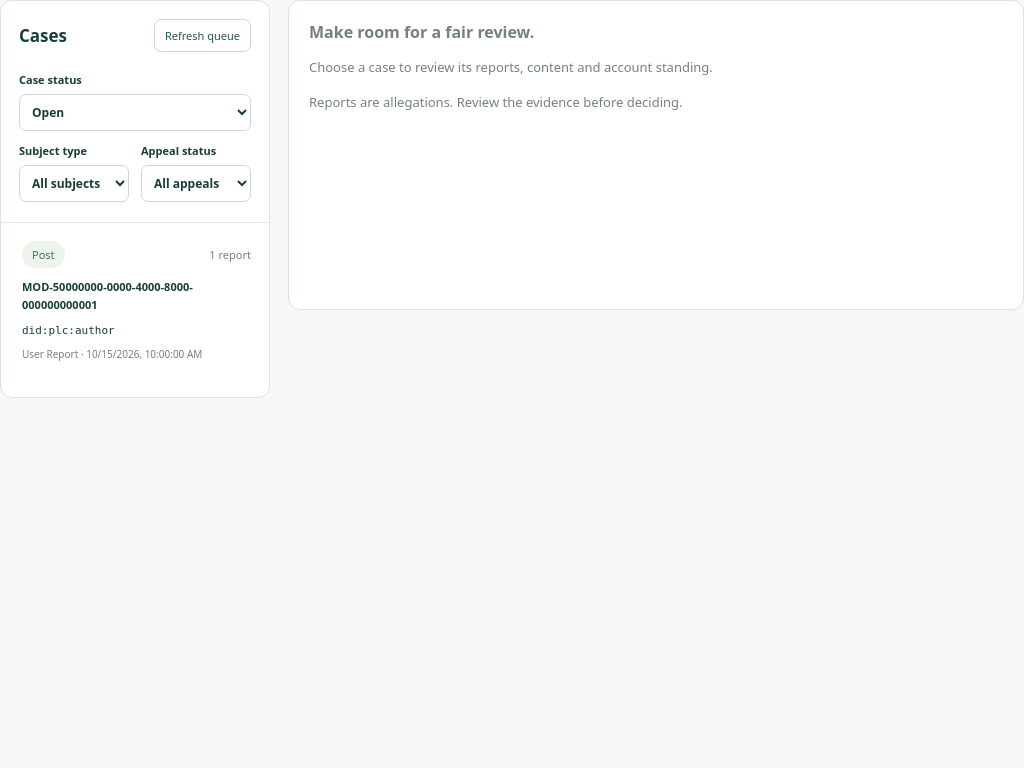
Test: review can be cancelled without issuing a command and restores keyboard focus
Click the link with aria-label "Review MOD-50000000-0000-4000-8000-000000000001" at (43, 254), box x1=1 y1=223 x2=269 y2=379
(page scrolled)
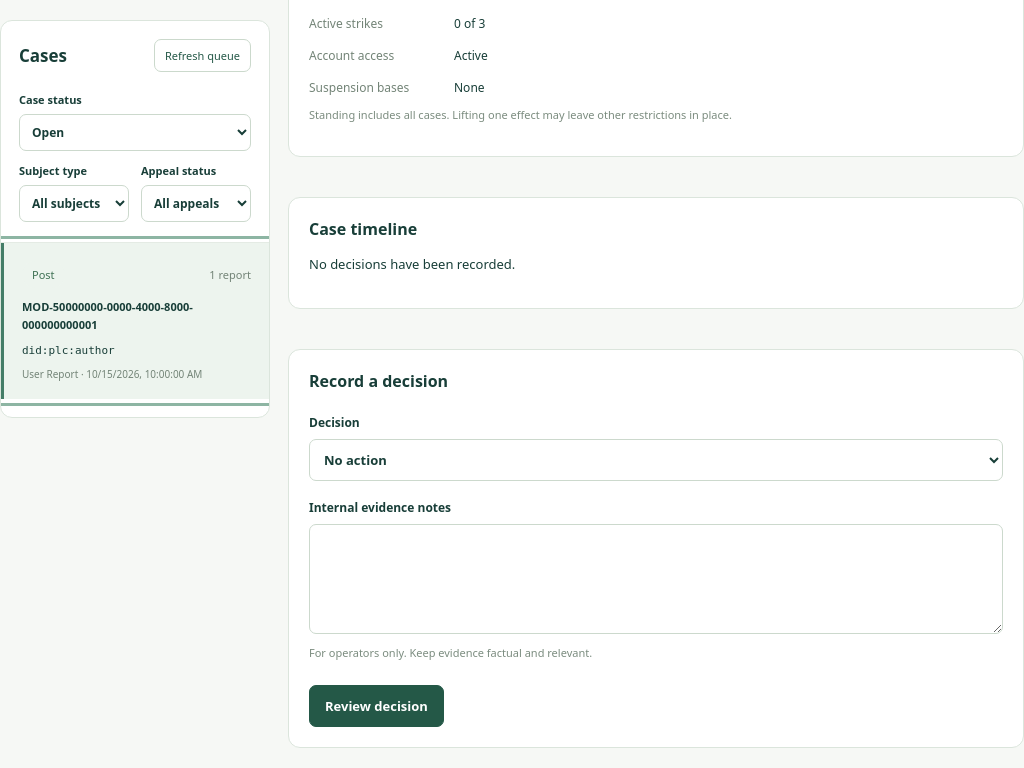
Click the button "Review decision" at (376, 706), box x1=309 y1=685 x2=444 y2=727
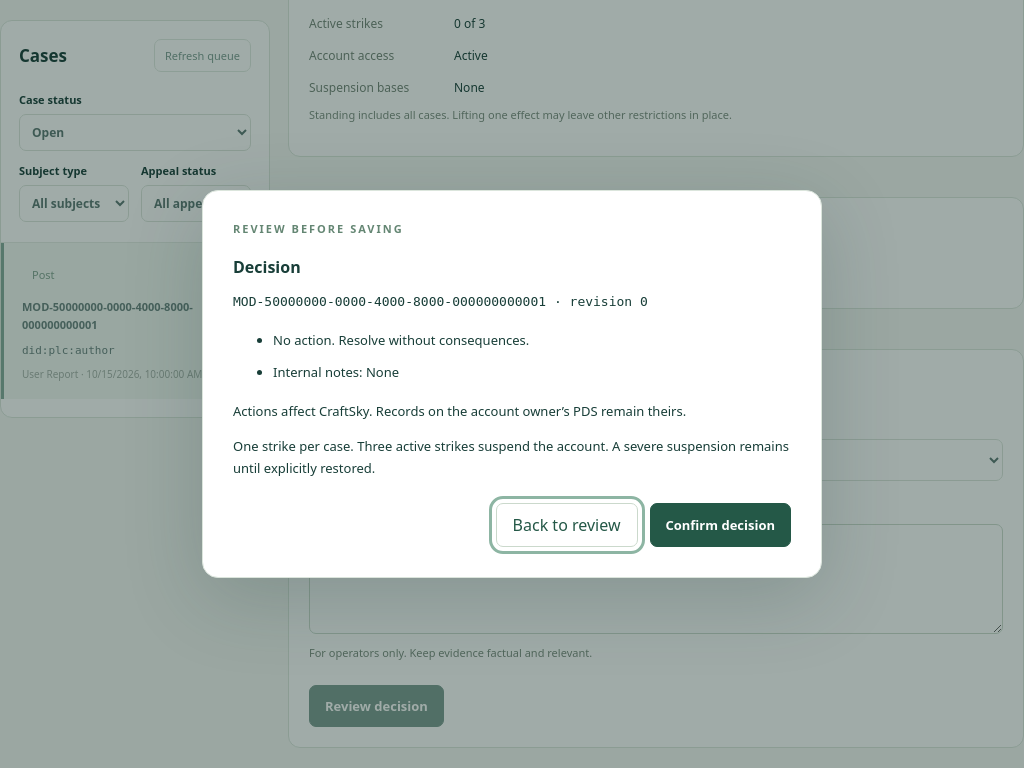
Press Shift+Tab
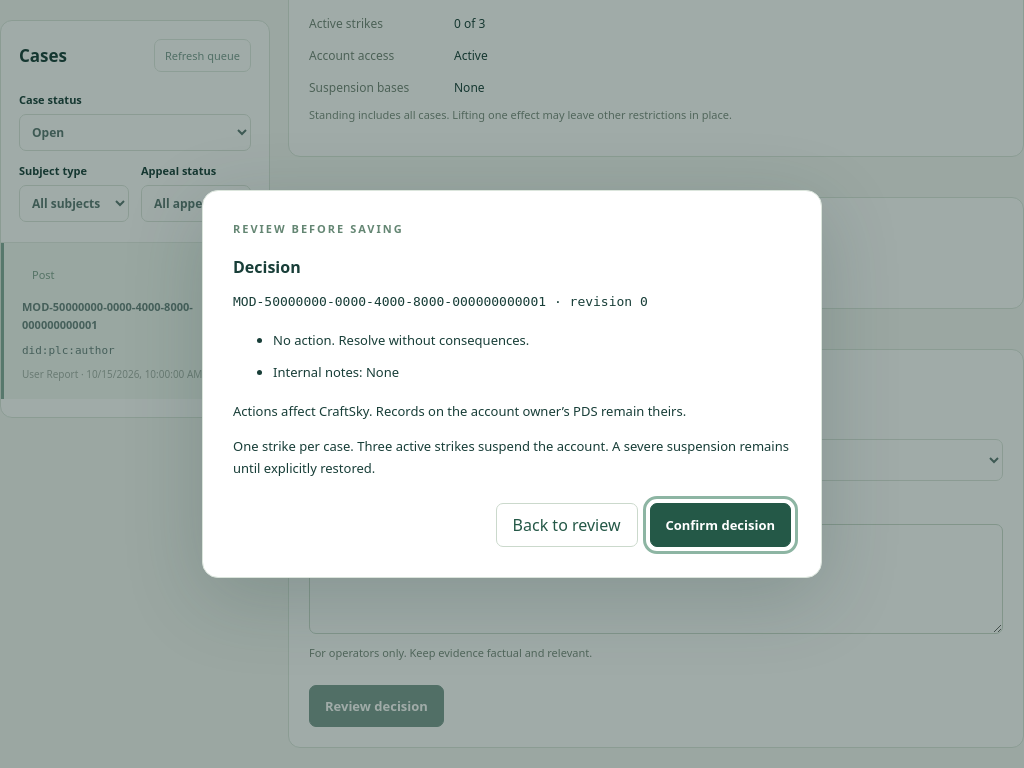
Press Tab
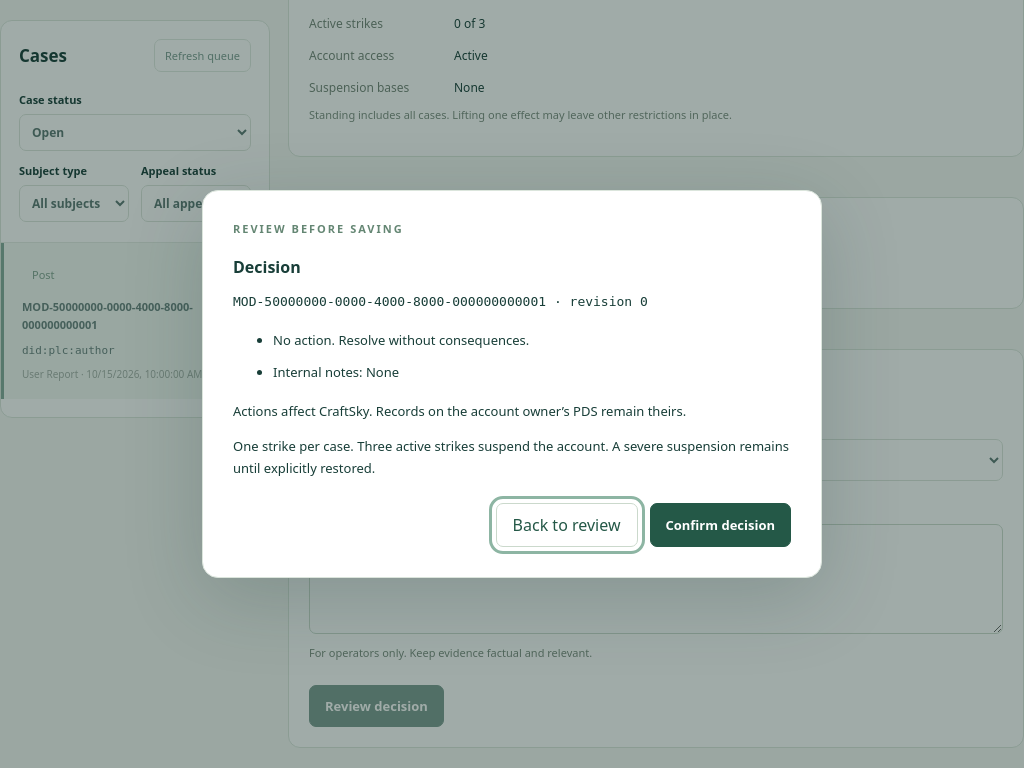
Click the button "Back to review" at (567, 525), box x1=496 y1=503 x2=638 y2=547
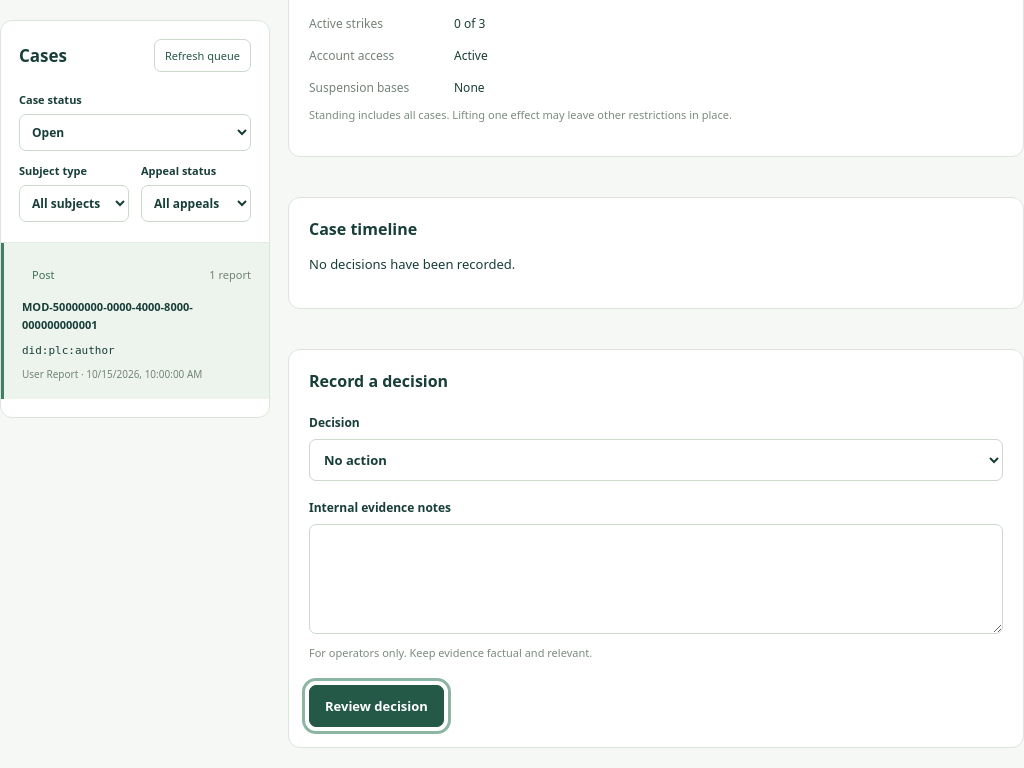
Expected: the dialog is gone
